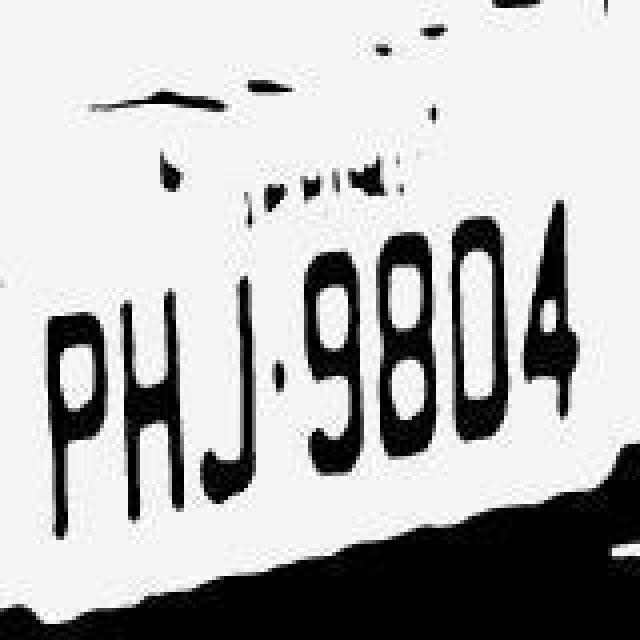4: (518, 188, 594, 452)
8: (368, 224, 440, 496)
9: (296, 236, 368, 516)
H: (122, 280, 198, 552)
J: (196, 272, 268, 536)
O: (440, 190, 512, 466)
P: (44, 278, 124, 546)
